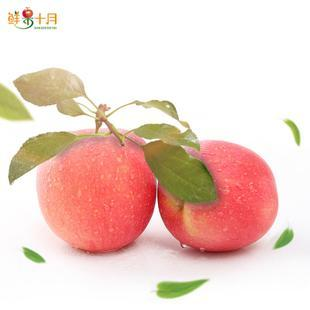apple: (156, 140, 283, 256), (35, 135, 157, 253)
